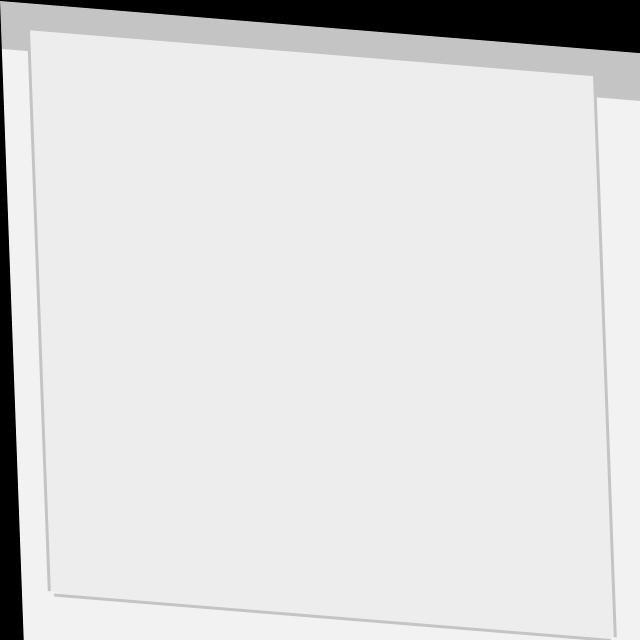qr_code: (30, 29, 609, 628)
